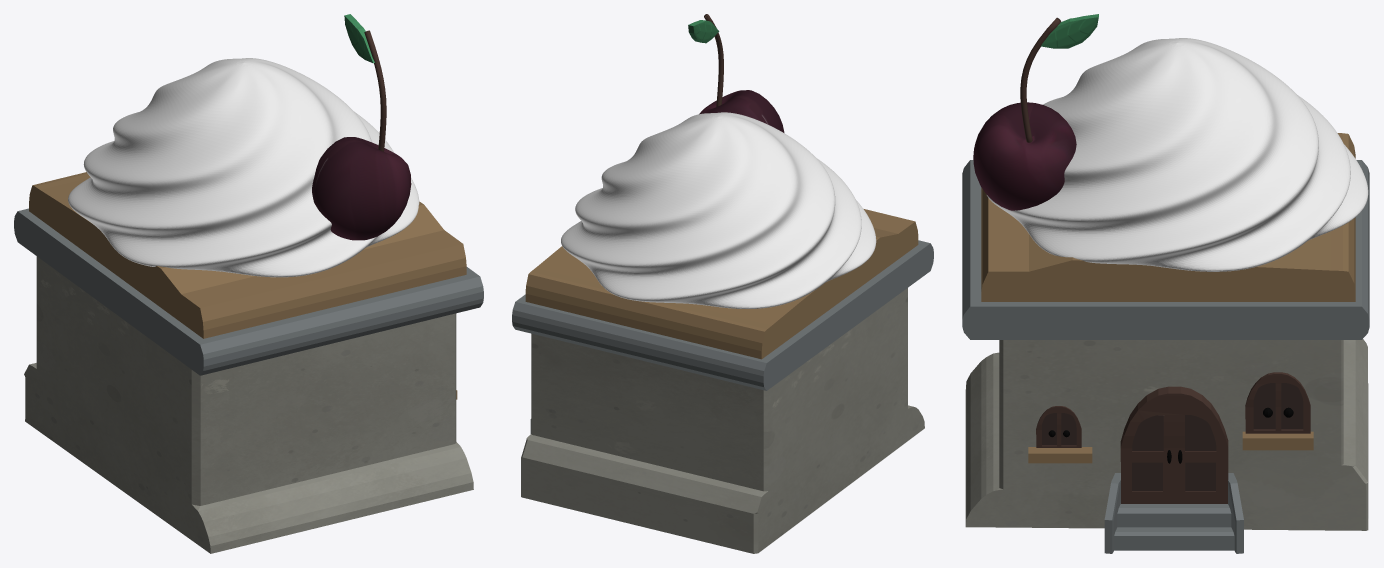
File: FBX_Company2.fbx
3 views of the same model, side by side, from view 1: azimuth 30°, elevation 25°; view 2: azimuth 150°, elevation 25°; view 3: azimuth 270°, elevation 25° (orthographic). The views are drawn at different scales.
Visible parts, largest first — view 1: Cube.031, Cylinder.004, Cube.033, Cube.032, Sphere.020, BézierCurve.005, Cube.034; view 2: Cube.031, Cylinder.004, Cube.033, Cube.032, Sphere.020, Cube.034; view 3: Cylinder.004, Cube.031, Cube.032, Cube.033, Cube.038, Sphere.020, Cube.037, Cube.044, Cube.043, Cube.142, Cube.036, Cube.034 (+4 smaller).
Boxes of the visible parts, bbox=[...] form: Cube.031: bbox=[24, 256, 473, 553]; Cylinder.004: bbox=[68, 58, 419, 277]; Cube.033: bbox=[29, 172, 466, 338]; Cube.032: bbox=[14, 208, 483, 375]; Sphere.020: bbox=[312, 137, 411, 240]; BézierCurve.005: bbox=[364, 30, 386, 151]; Cube.034: bbox=[344, 14, 374, 63]; Cube.031: bbox=[521, 288, 924, 553]; Cylinder.004: bbox=[561, 112, 876, 308]; Cube.033: bbox=[525, 209, 918, 359]; Cube.032: bbox=[512, 240, 933, 390]; Sphere.020: bbox=[699, 90, 784, 132]; Cube.034: bbox=[688, 20, 719, 43]; Cylinder.004: bbox=[987, 38, 1368, 271]; Cube.031: bbox=[965, 339, 1368, 530]; Cube.032: bbox=[962, 160, 1369, 339]; Cube.033: bbox=[981, 133, 1355, 301]; Cube.038: bbox=[1120, 386, 1228, 503]; Sphere.020: bbox=[973, 102, 1076, 210]; Cube.037: bbox=[1245, 372, 1310, 433]; Cube.044: bbox=[1114, 527, 1234, 550]; Cube.043: bbox=[1117, 504, 1231, 527]; Cube.142: bbox=[1036, 406, 1081, 447]; Cube.036: bbox=[1242, 431, 1313, 450]; Cube.034: bbox=[1041, 14, 1098, 48].
Size of the model in its own units: 2.85 by 2.88 by 3.76.
